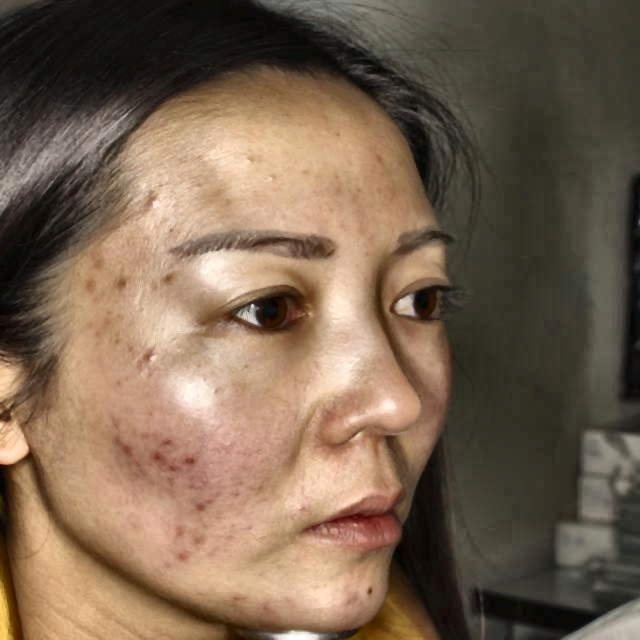pustule: (150, 441, 196, 472), (111, 429, 136, 476), (78, 278, 112, 303), (163, 523, 199, 546), (170, 544, 198, 568), (138, 186, 160, 208), (158, 265, 177, 289), (112, 269, 126, 296)
